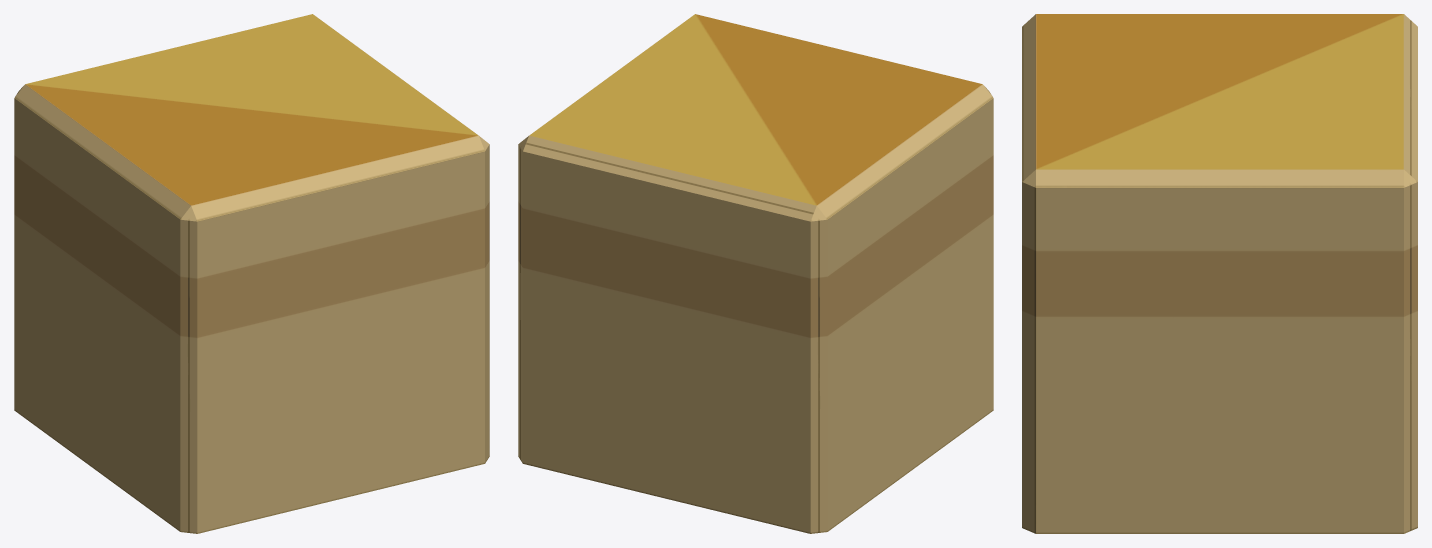
The model's file is square3.fbx.
3 views of the same model, side by side, from view 1: azimuth 30°, elevation 25°; view 2: azimuth 150°, elevation 25°; view 3: azimuth 270°, elevation 25° (orthographic). The views are drawn at different scales.
Visible parts, largest first — view 1: Cube.456; view 2: Cube.456; view 3: Cube.456.
Part boxes in pixels (box(x1,y1,x2,y2)): Cube.456: box(14, 14, 489, 533); Cube.456: box(518, 14, 993, 533); Cube.456: box(1022, 14, 1417, 533).
Bounding box in the file's own units: 200 × 200 × 200.
